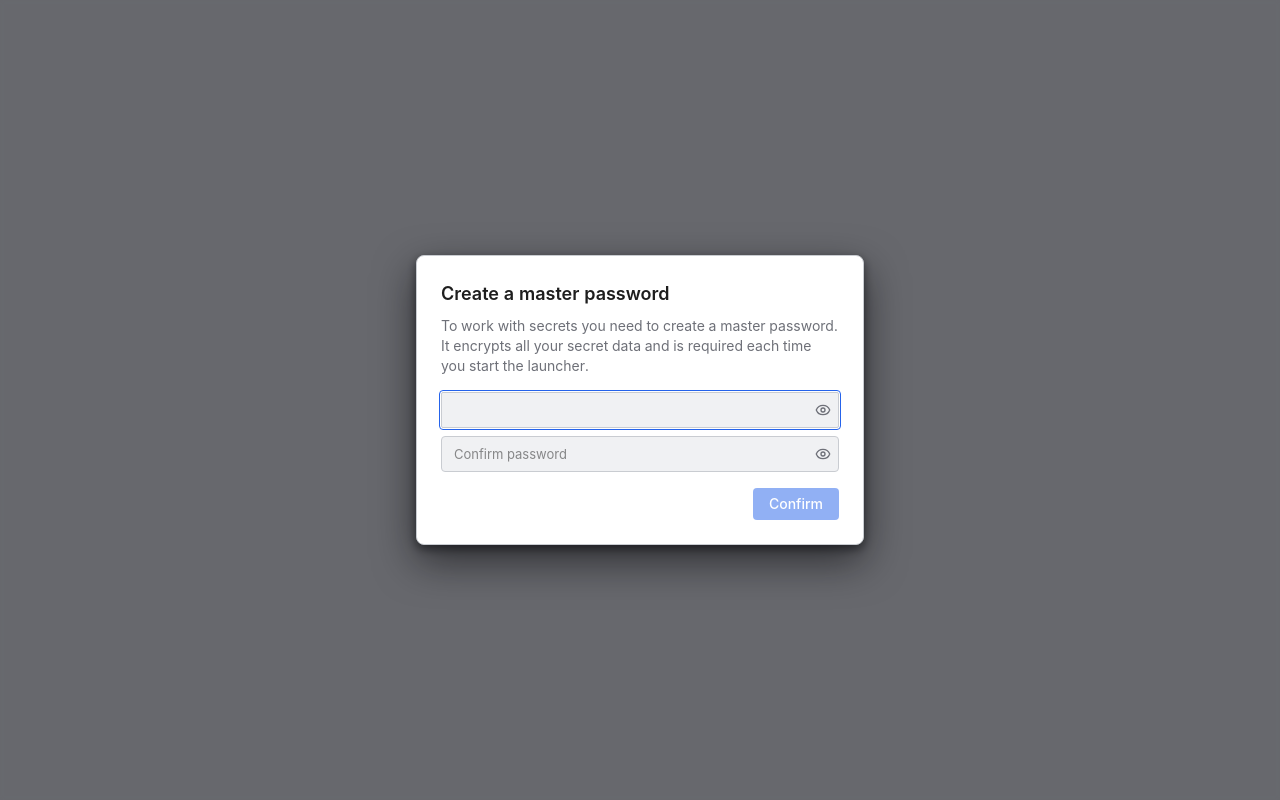
MasterPasswordDialog create mode › clears the mismatch message once the confirmation is corrected
The image size is (1280, 800).
Type "correct-horse" into the 1st password field at (640, 410), box [441, 392, 839, 428]
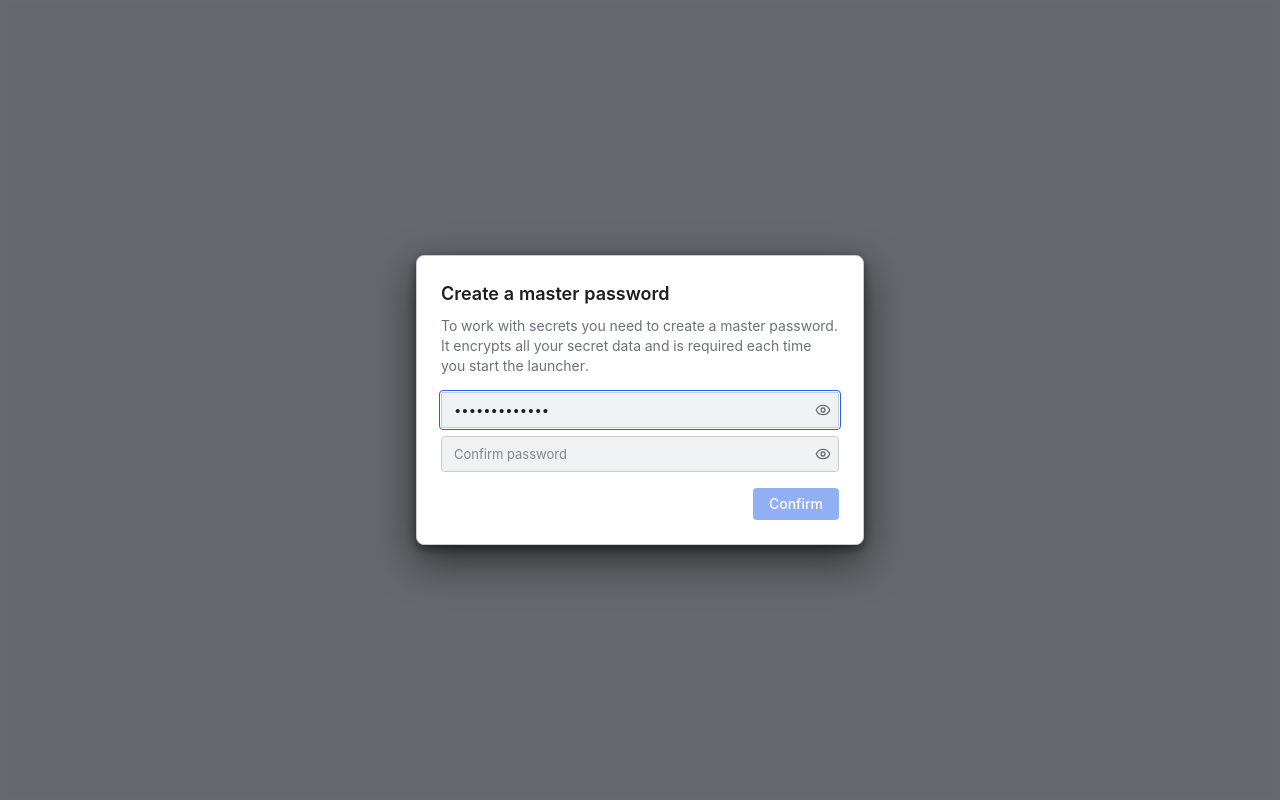
Type "nope" into the password field with placeholder "Confirm password" at (640, 454), box [441, 436, 839, 472]
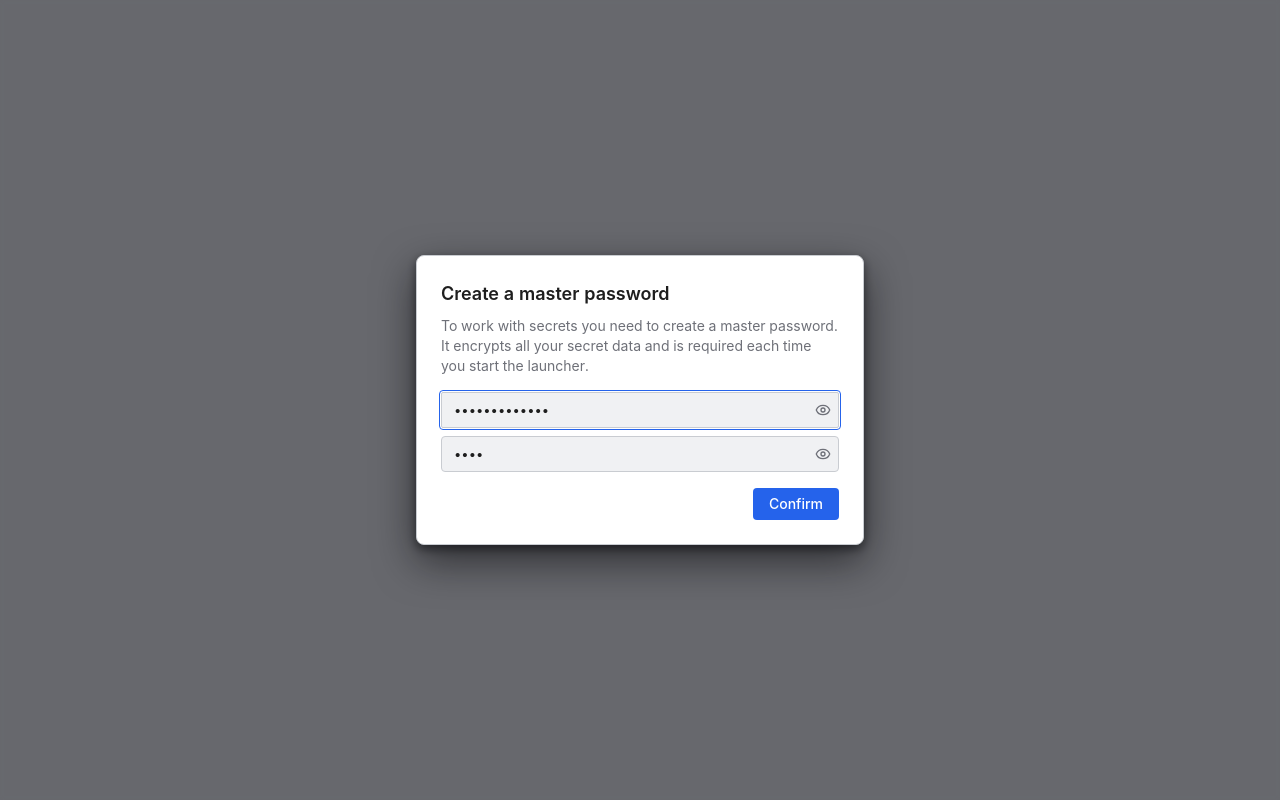
Click the button "Confirm" at (796, 504), box [753, 488, 839, 520]
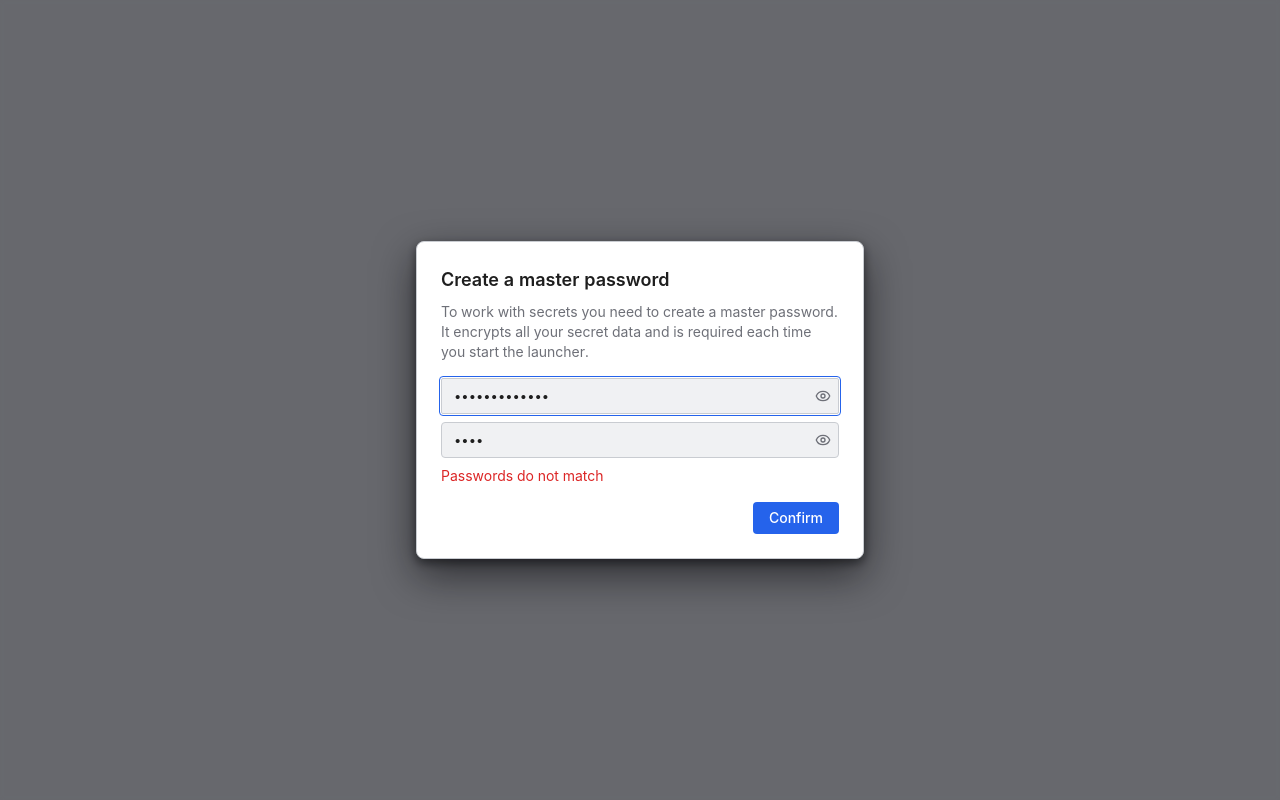
Check: the text "Passwords do not match" is shown, box [441, 467, 604, 484]
Type "correct-horse" into the 2nd password field at (640, 440), box [441, 422, 839, 458]
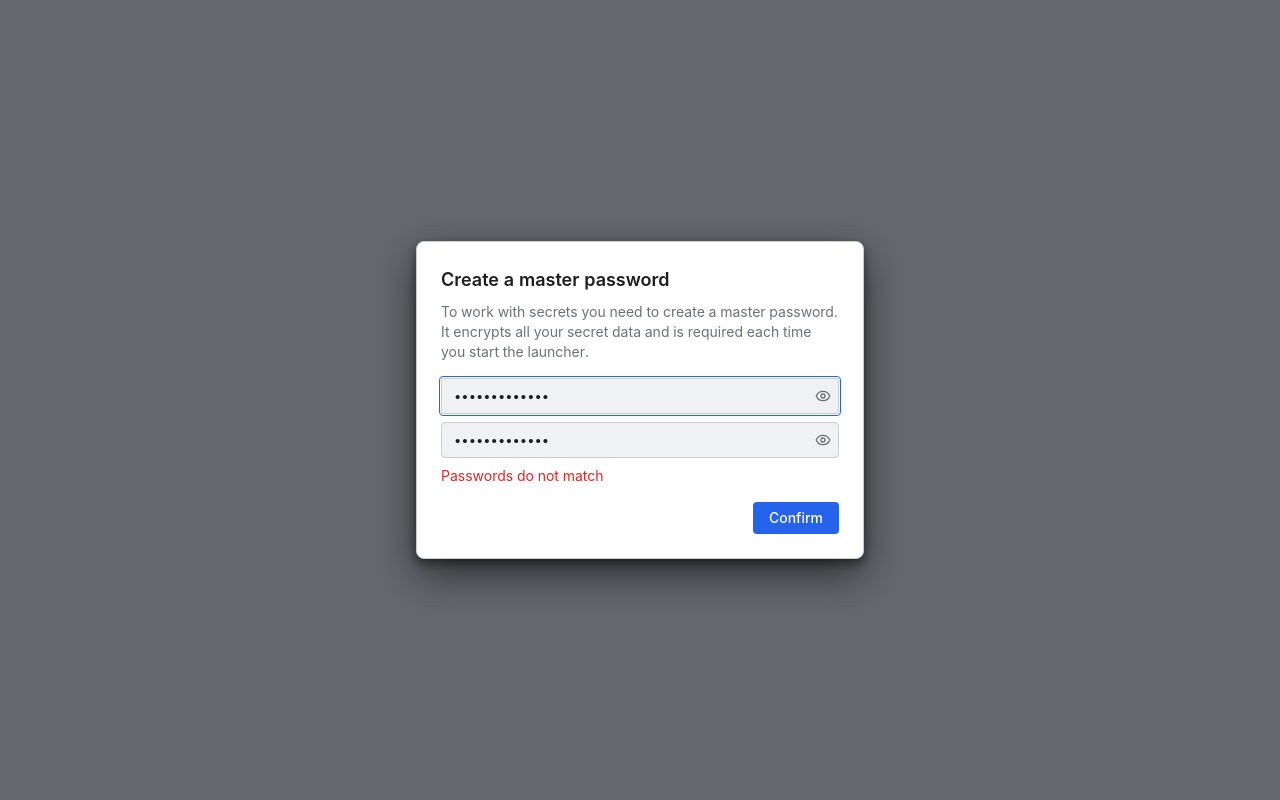
Click the button "Confirm" at (796, 518), box [753, 502, 839, 534]
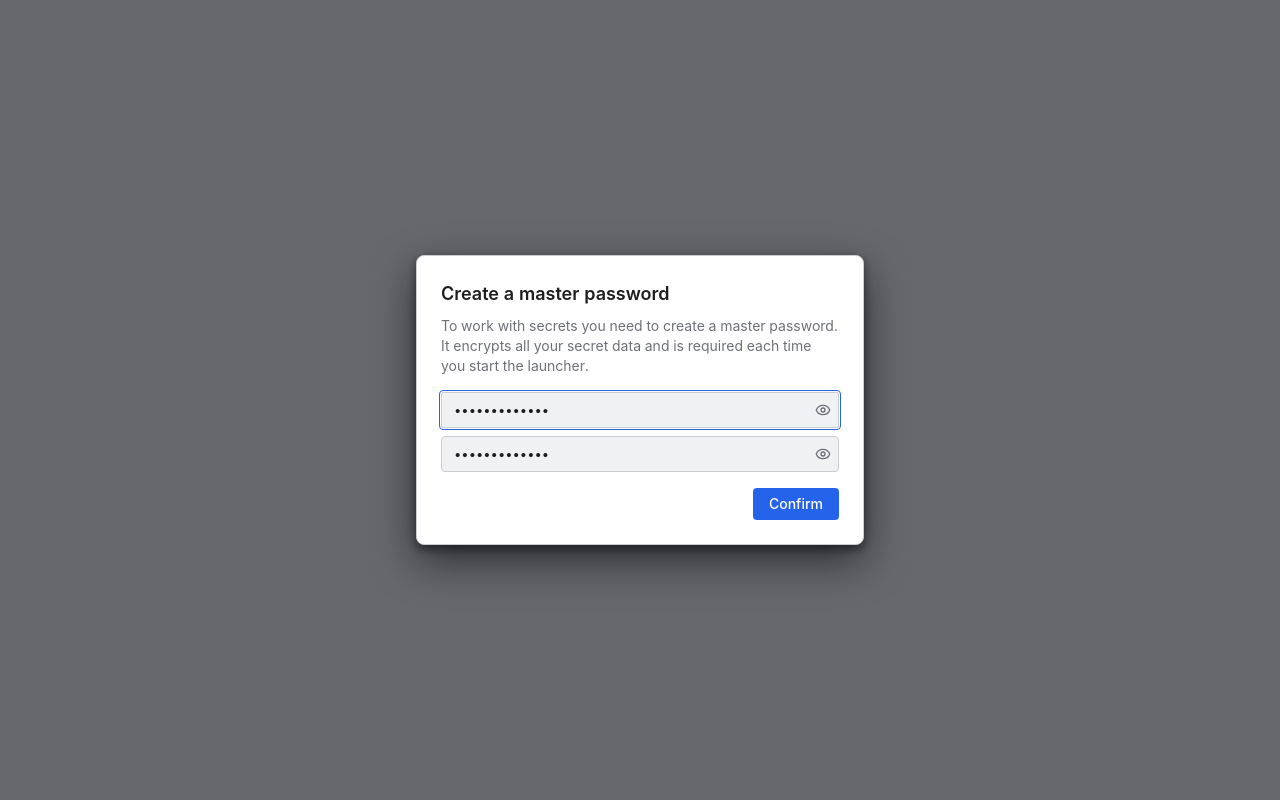
Check: the text "Passwords do not match" is gone
